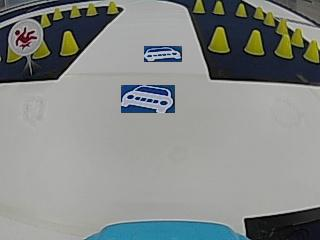cone: (208, 25, 230, 54), (244, 28, 264, 56), (59, 30, 78, 56), (274, 34, 292, 59), (303, 38, 319, 63), (33, 41, 50, 59), (291, 27, 303, 47), (276, 17, 288, 35), (6, 46, 19, 62), (192, 0, 205, 14), (212, 0, 224, 15), (235, 2, 247, 17), (106, 0, 118, 14), (264, 10, 274, 26), (52, 7, 63, 21), (86, 3, 97, 16), (70, 4, 80, 18), (40, 13, 50, 27), (254, 5, 264, 19)
tumble: (12, 23, 40, 51)
